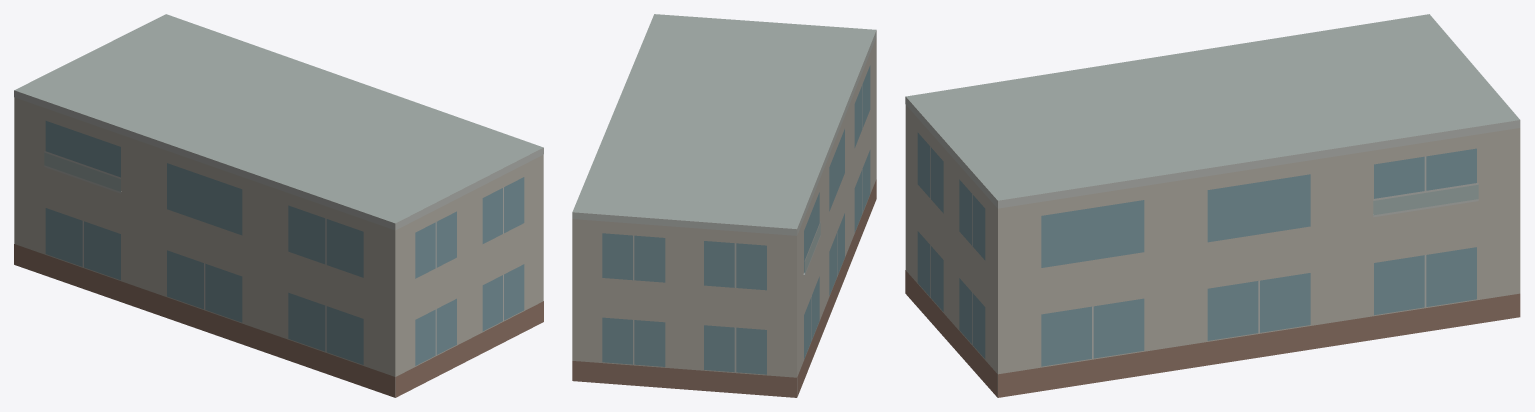
Rendered from survey-upis-32610088.glb.
3 renders of one model, left to right at view 1: azimuth 30°, elevation 25°; view 2: azimuth 150°, elevation 25°; view 3: azimuth 270°, elevation 25°, orthographic. The views are drawn at different scales.
Visible parts, largest first — view 1: survey-upis-32610088.tmp; view 2: survey-upis-32610088.tmp; view 3: survey-upis-32610088.tmp.
Part boxes in pixels (x1,y1,x2,y2): survey-upis-32610088.tmp: [14, 14, 543, 397]; survey-upis-32610088.tmp: [572, 14, 876, 397]; survey-upis-32610088.tmp: [905, 14, 1520, 397].
Bounding box in the file's own units: 12.4 × 6.1 × 17.25.
